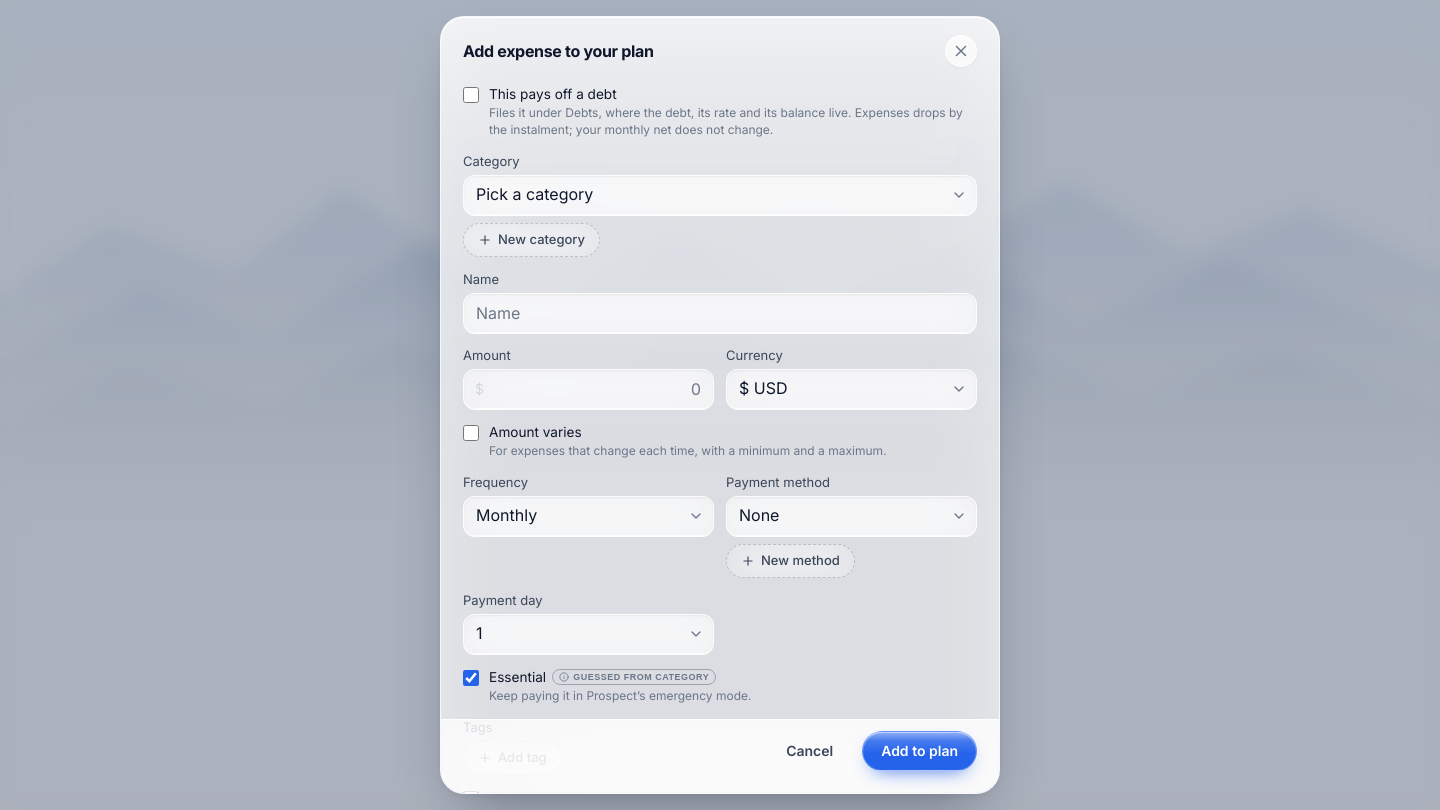
Test: RecurrentTransactionModal — variable amount › refuses a floor at or above the top
Select "Groceries" in the dropdown labelled "Category" at (720, 195), box [463,175,977,215]
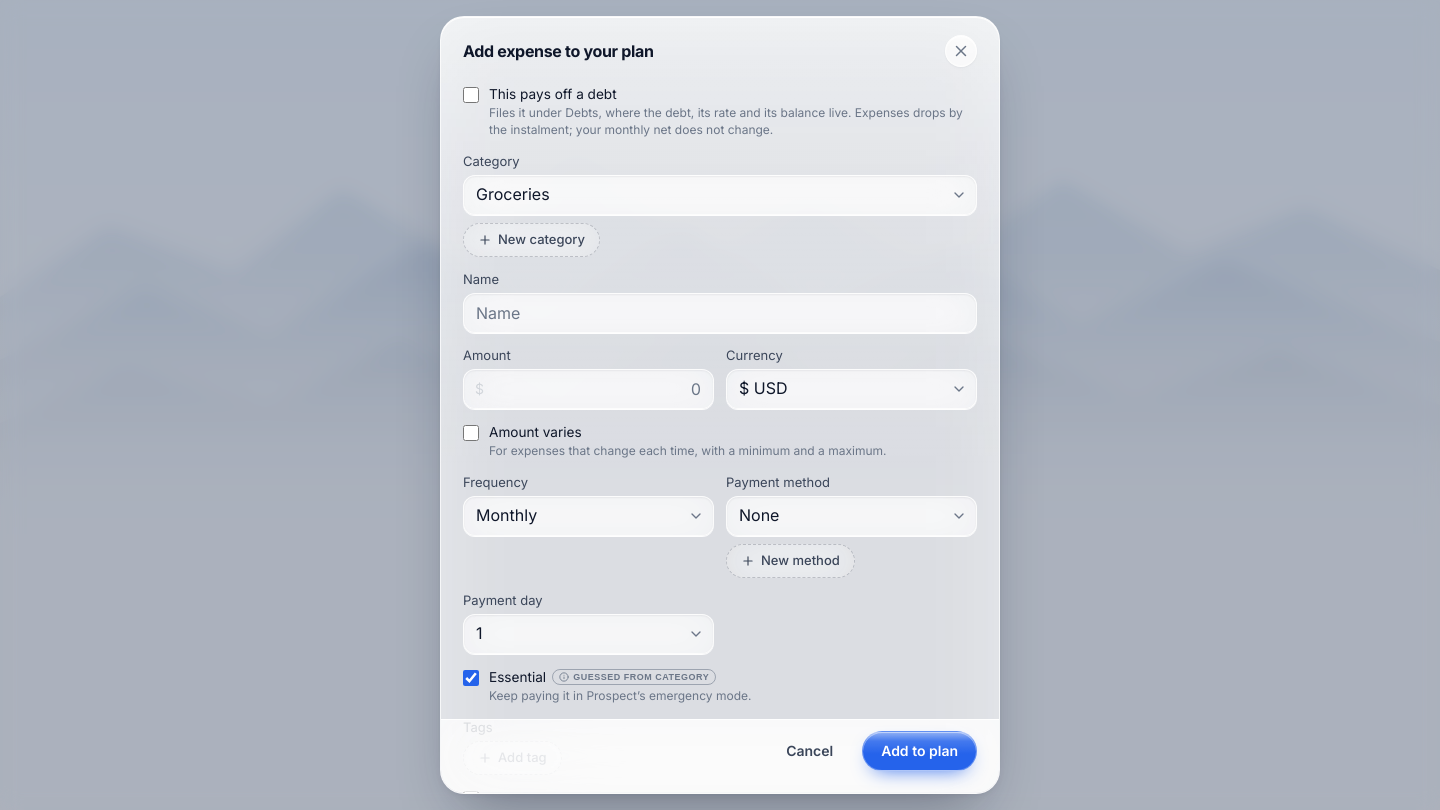
Type "Laptop" into the field labelled "Name" at (720, 313), box [463,293,977,333]
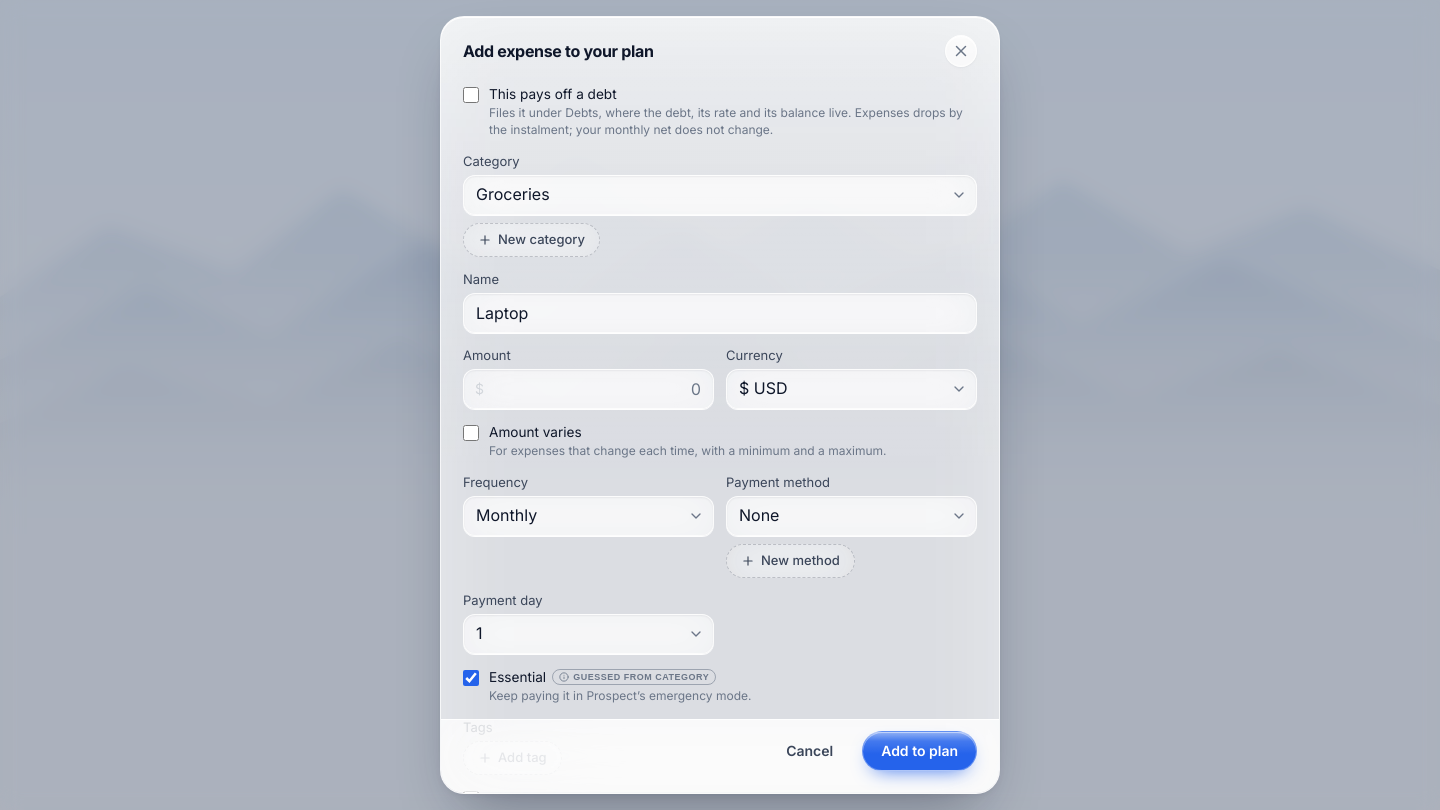
Type "2000" into the field labelled "Amount" at (588, 389), box [463,369,714,409]
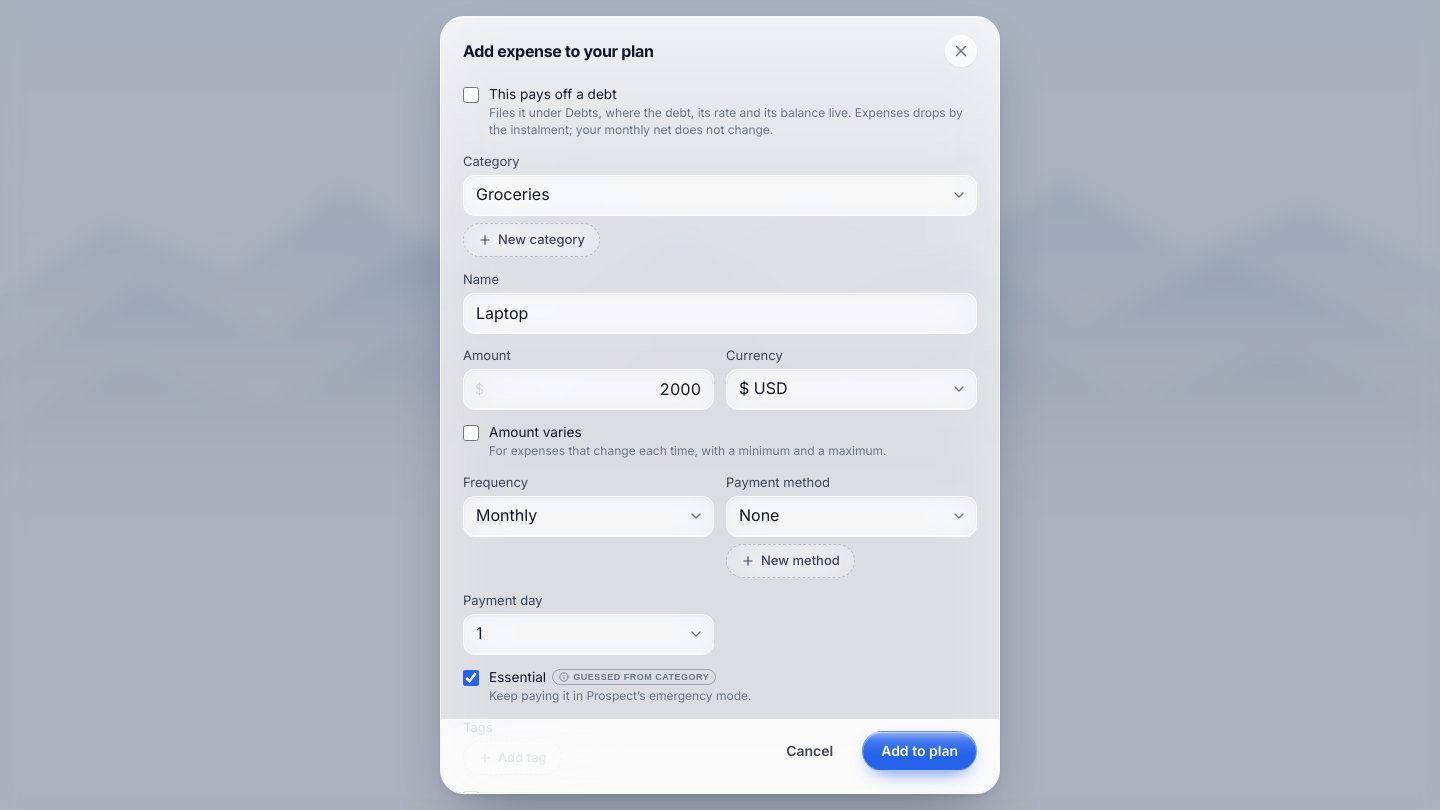
Click the checkbox labelled "Amount varies" at (471, 433), box [463,425,479,441]
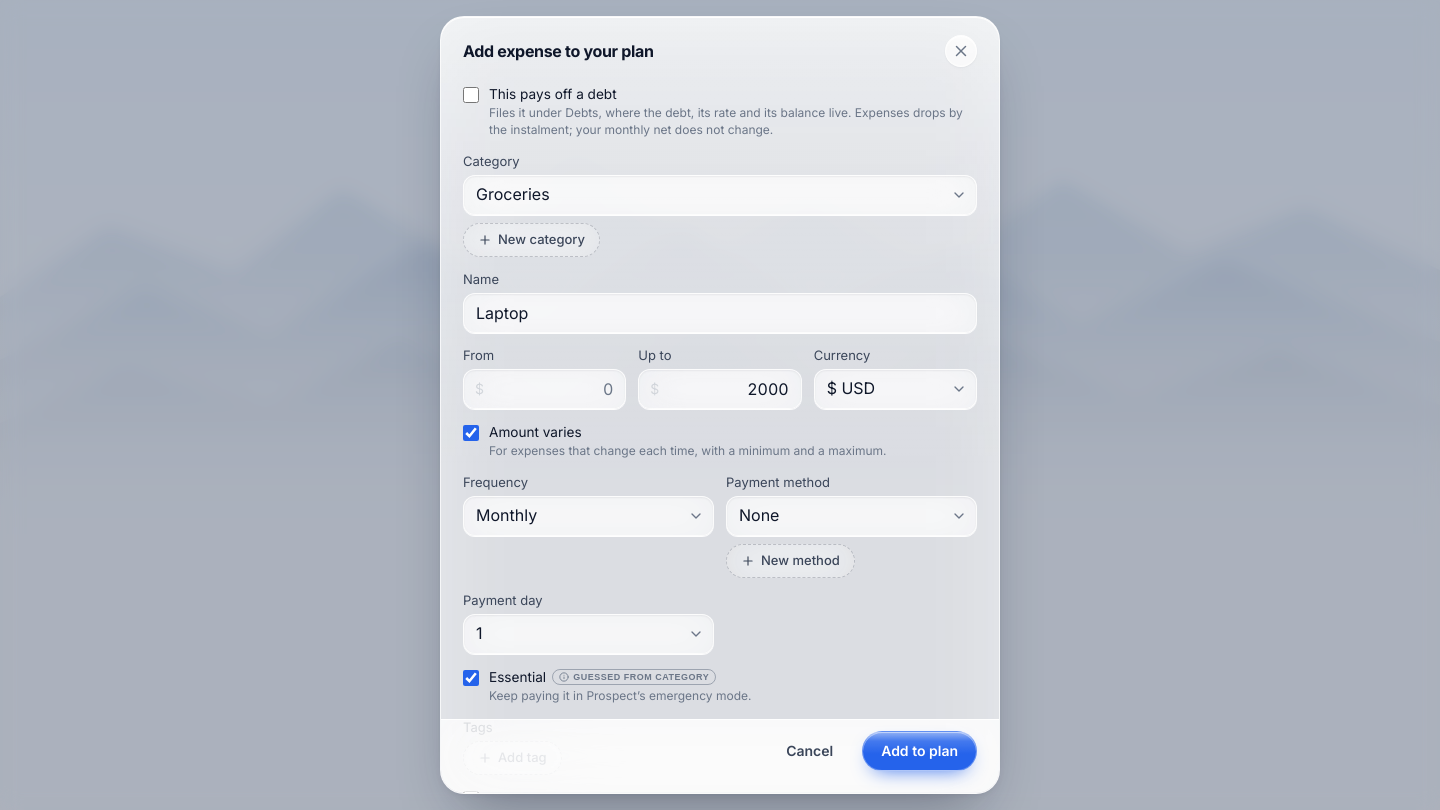
Type "2000" into the field labelled "From" at (545, 389), box [463,369,626,409]
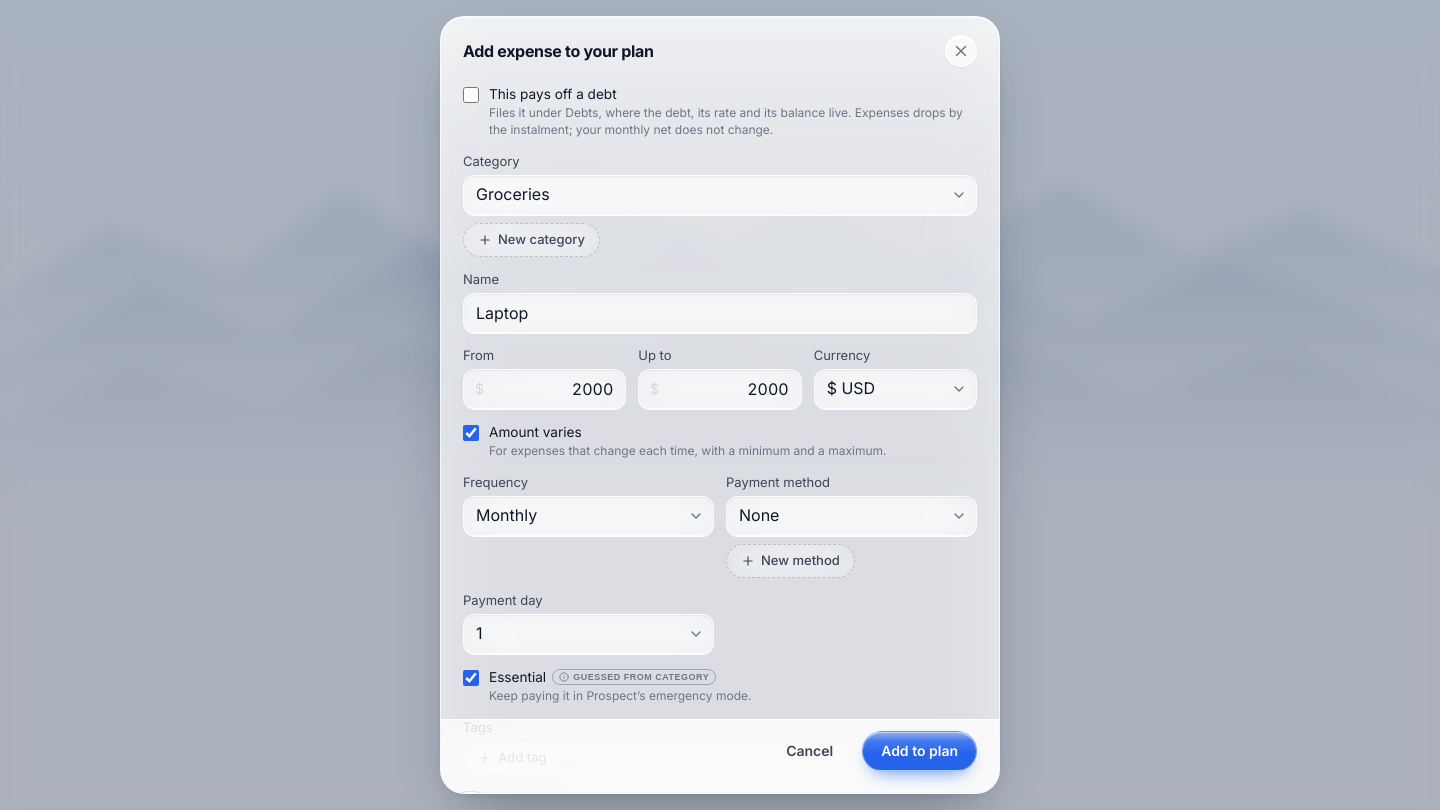
Click the button "Add to plan" at (920, 751), box [862,731,977,771]
(page scrolled)
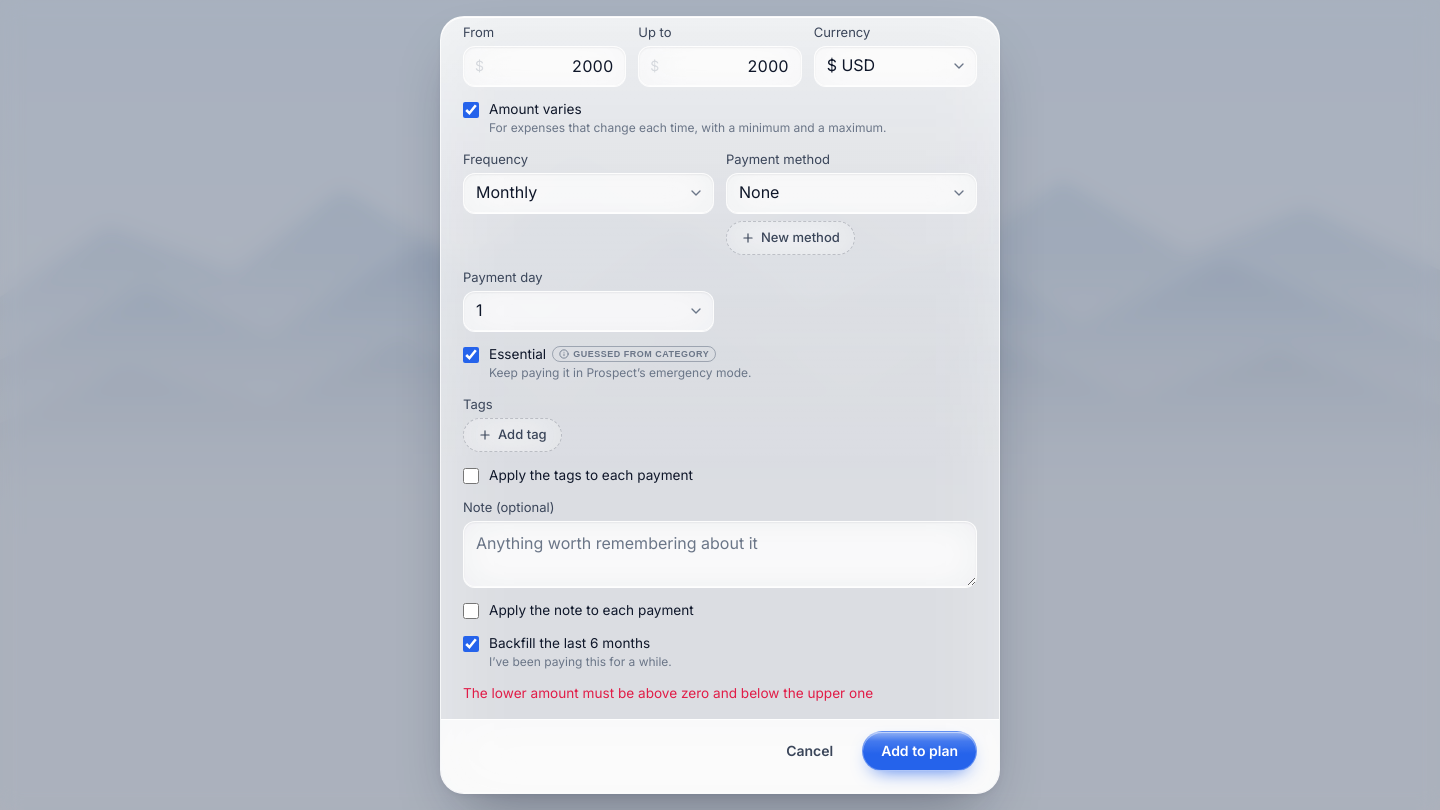
Expected: the text "The lower amount must be above zero and below the upper one" is shown, [463,685,873,701]
